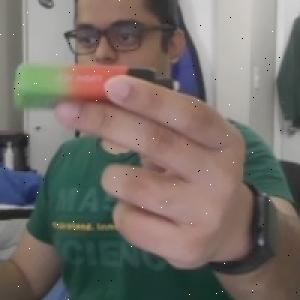Swift-E-Ciggirate: (4, 60, 187, 111)
